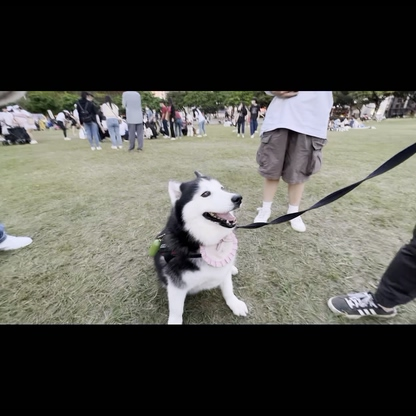husky: (148, 168, 249, 322)
